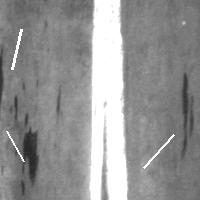scratches: (87, 1, 128, 199), (138, 130, 178, 173), (19, 112, 39, 189), (179, 71, 195, 156), (1, 126, 28, 166), (7, 24, 26, 74), (52, 83, 66, 120)
